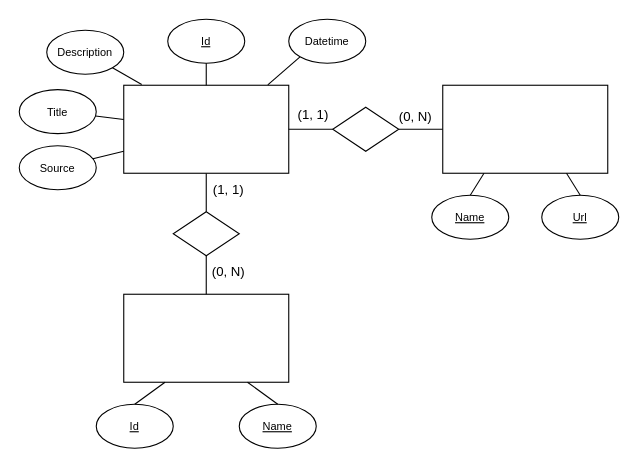
The diagram is 638 pixels wide and 468 high, and some of its shapes have lost their labels. Here are the shapes that lost their labels. From the top down, the centre of each, then its label:
At (x=206, y=128): "Activity".
At (x=525, y=128): "Location".
At (x=206, y=337): "Activity Type".
